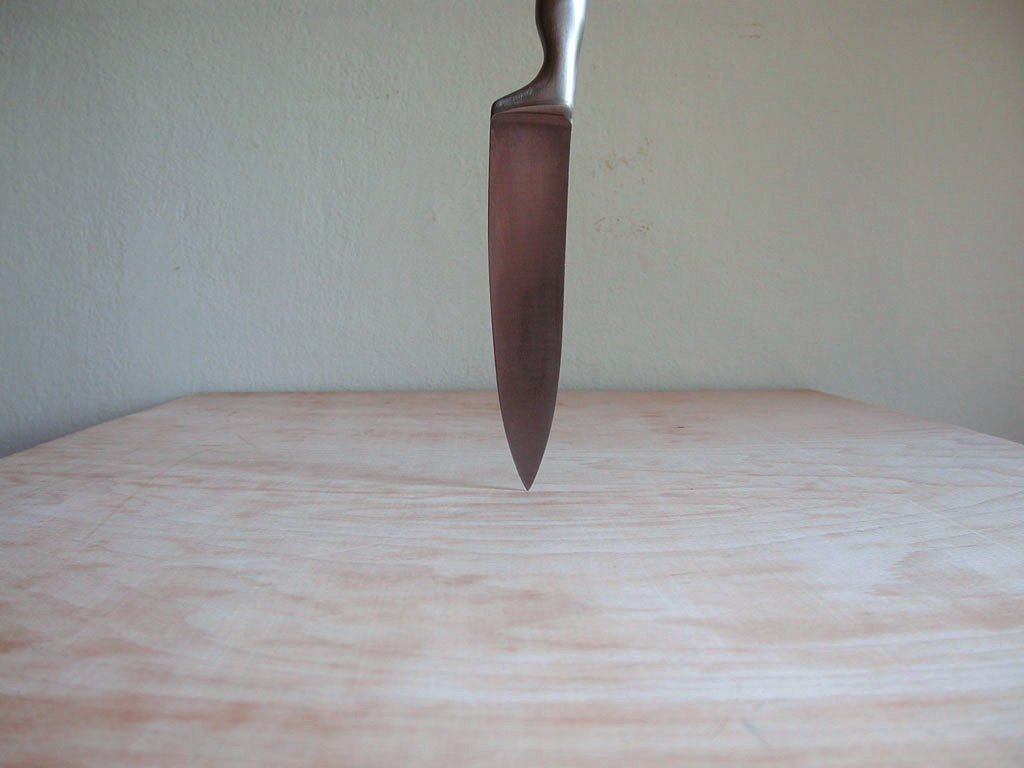knife: (485, 0, 591, 492)
